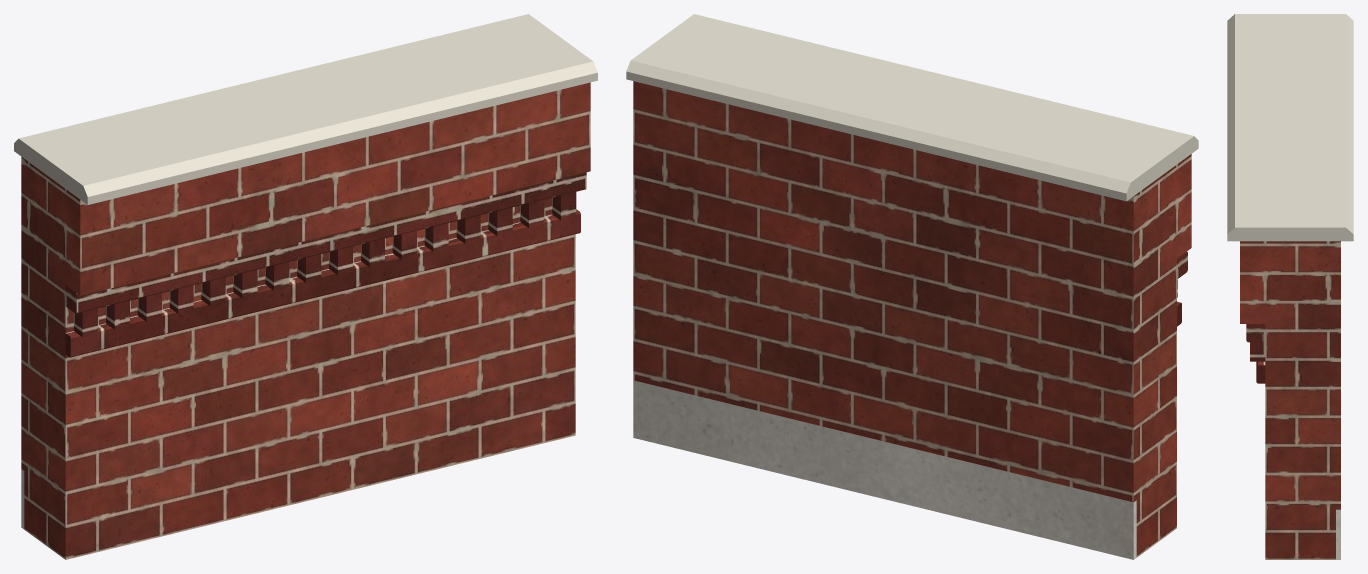
Rendered from b_parapet.glb.
3 views of the same model, side by side, from view 1: azimuth 30°, elevation 25°; view 2: azimuth 150°, elevation 25°; view 3: azimuth 270°, elevation 25° (orthographic). The views are drawn at different scales.
Visible parts, largest first — view 1: b_parapet_brick, b_parapet_coping, b_parapet_brick2; view 2: b_parapet_brick, b_parapet_coping, b_parapet_plaster; view 3: b_parapet_coping, b_parapet_brick, b_parapet_brick2, b_parapet_plaster.
Boxes of the visible parts, x1,y1,x2,y2 form: b_parapet_brick: (21,82,590,559); b_parapet_coping: (14,14,597,204); b_parapet_brick2: (65,172,586,357); b_parapet_brick: (633,81,1191,557); b_parapet_coping: (626,14,1198,201); b_parapet_plaster: (633,380,1136,559); b_parapet_coping: (1227,14,1353,241); b_parapet_brick: (1240,241,1340,559); b_parapet_brick2: (1246,324,1265,383); b_parapet_plaster: (1336,509,1340,559).
Size of the model in its own units: 2 by 1.45 by 0.5.
Materials: 4 (3 with a texture image).
